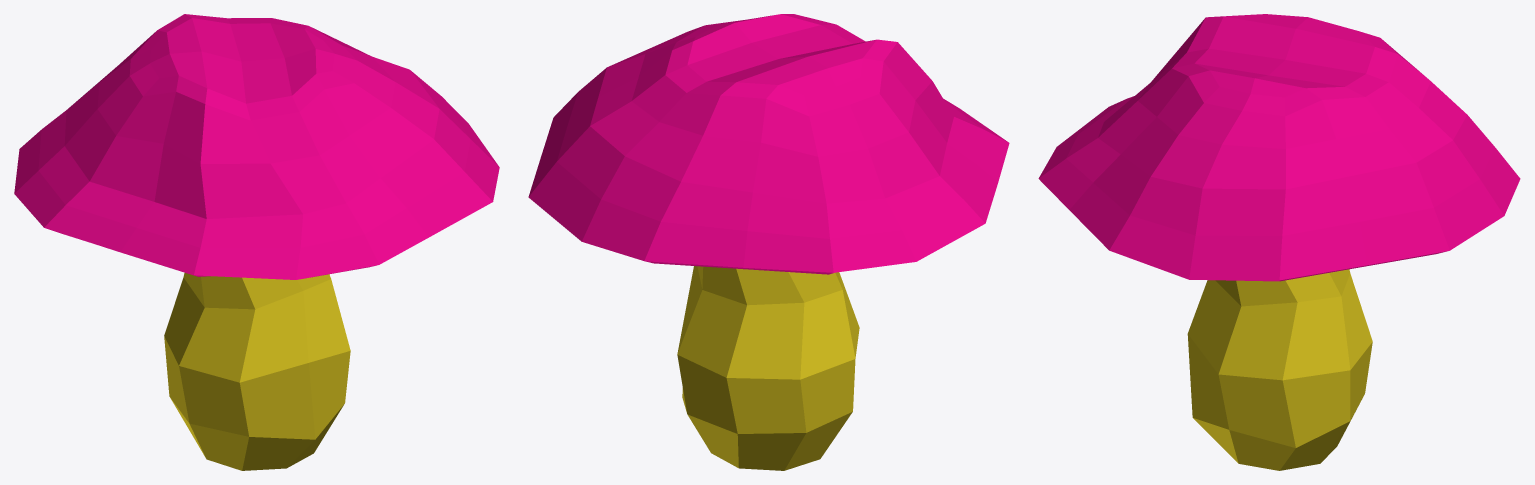
Rendered from low_poly_mushroom_3.fbx.
3 views of the same model, side by side, from view 1: azimuth 30°, elevation 25°; view 2: azimuth 150°, elevation 25°; view 3: azimuth 270°, elevation 25° (orthographic). The views are drawn at different scales.
Parts seen in each view (by area): view 1: Circle; view 2: Circle; view 3: Circle.
Boxes of the visible parts, left/top/right/bottom form: Circle: left=14, top=14, right=499, bottom=470; Circle: left=528, top=14, right=1009, bottom=470; Circle: left=1038, top=14, right=1520, bottom=470.
Size of the model in its own units: 8.36 by 7.55 by 8.35.
